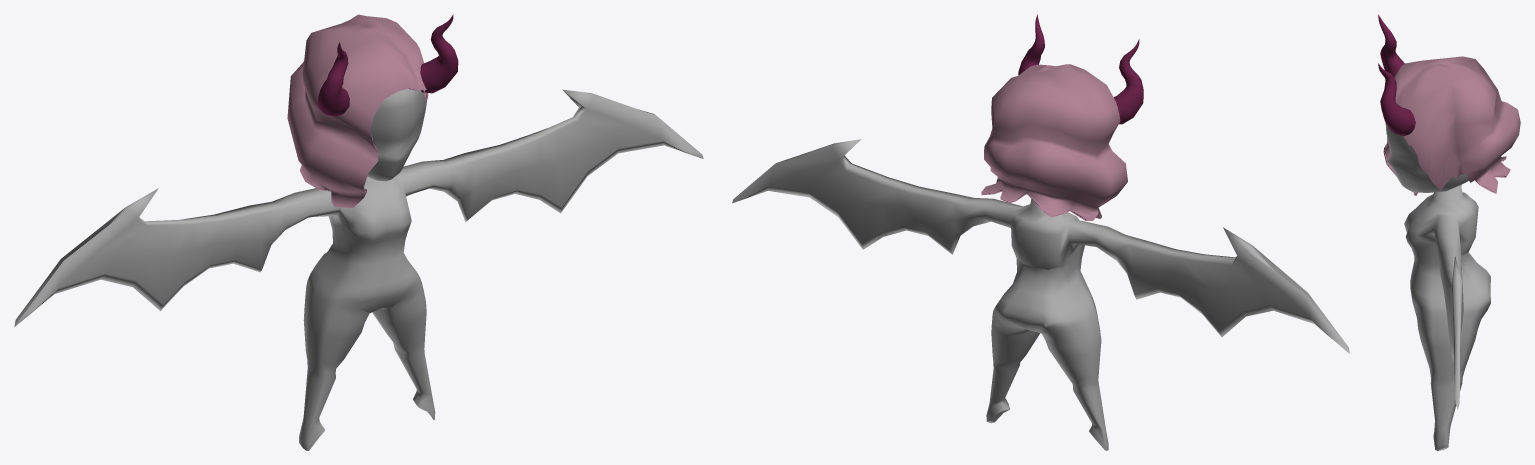
The model's file is 1. Modeling_Que.fbx.
The picture shows the model from 3 angles, left to right: view 1: azimuth 30°, elevation 25°; view 2: azimuth 150°, elevation 25°; view 3: azimuth 270°, elevation 25°; orthographic projection. The views are drawn at different scales.
Visible parts, largest first — view 1: pCube1, loftedSurface3, pSphere1, pCone1; view 2: pCube1, loftedSurface3, pCone1; view 3: pCube1, loftedSurface3, pCone1, pSphere1.
Part boxes in pixels (x1,y1,x2,y2): pCube1: (14,89,703,450); loftedSurface3: (287,14,428,207); pSphere1: (367,88,426,181); pCone1: (318,14,458,116); pCube1: (732,139,1349,450); loftedSurface3: (981,64,1127,220); pCone1: (1018,14,1143,124); pCube1: (1404,184,1490,450); loftedSurface3: (1383,56,1520,195); pCone1: (1378,14,1415,136); pSphere1: (1385,123,1468,192).
Bounding box in the file's own units: 3.09 × 1.86 × 0.6293.
